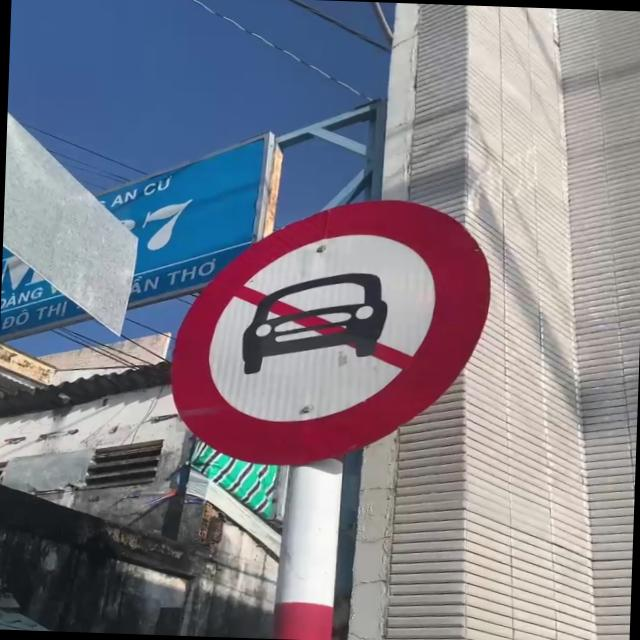Cam_O_To: (163, 188, 506, 477)
